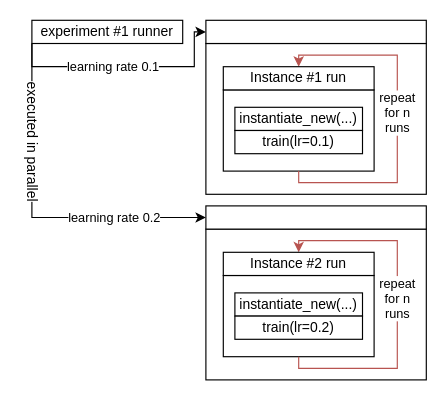
Image size: 447x400. Some labels were removed from this diagram. Each missing label, with the centre of its shape:
"experiment #1 script, instance #1" goes at [315,31].
"Experiment #1 script, instance #2" goes at [315,217].
